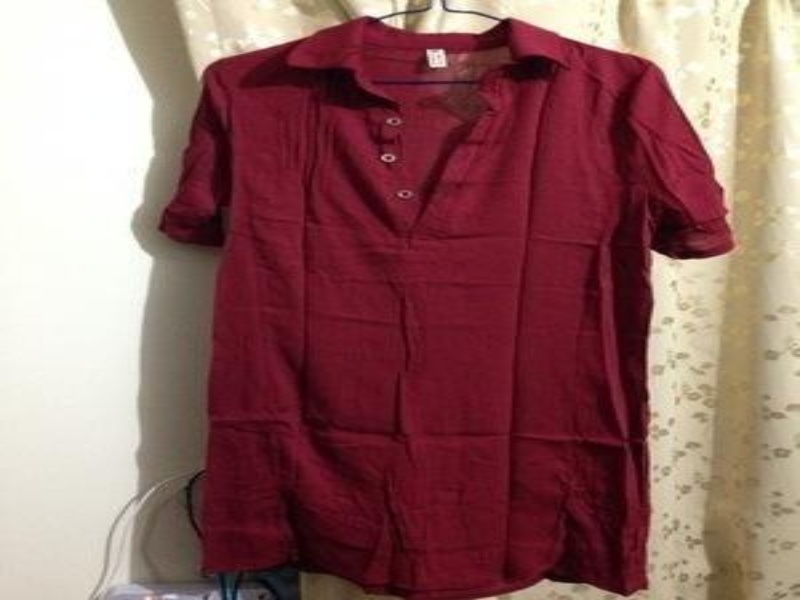long_sleeved_dress: (152, 15, 736, 598)
